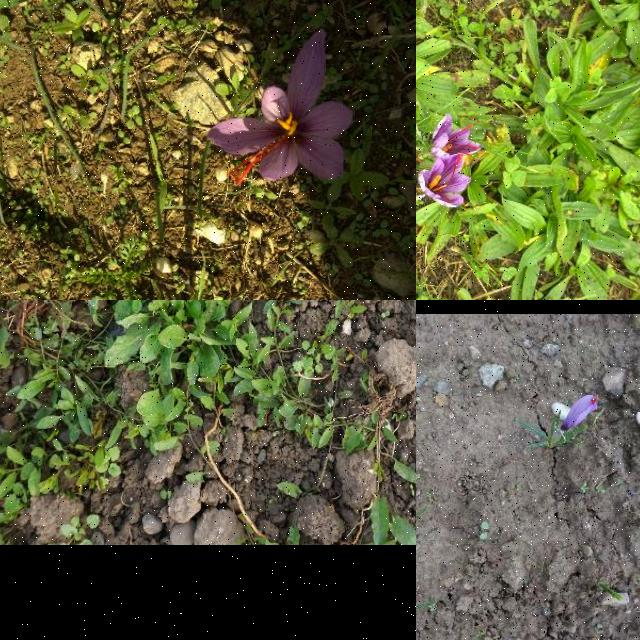flower: (206, 28, 356, 185), (418, 154, 470, 208), (431, 114, 484, 158), (560, 394, 602, 434)
